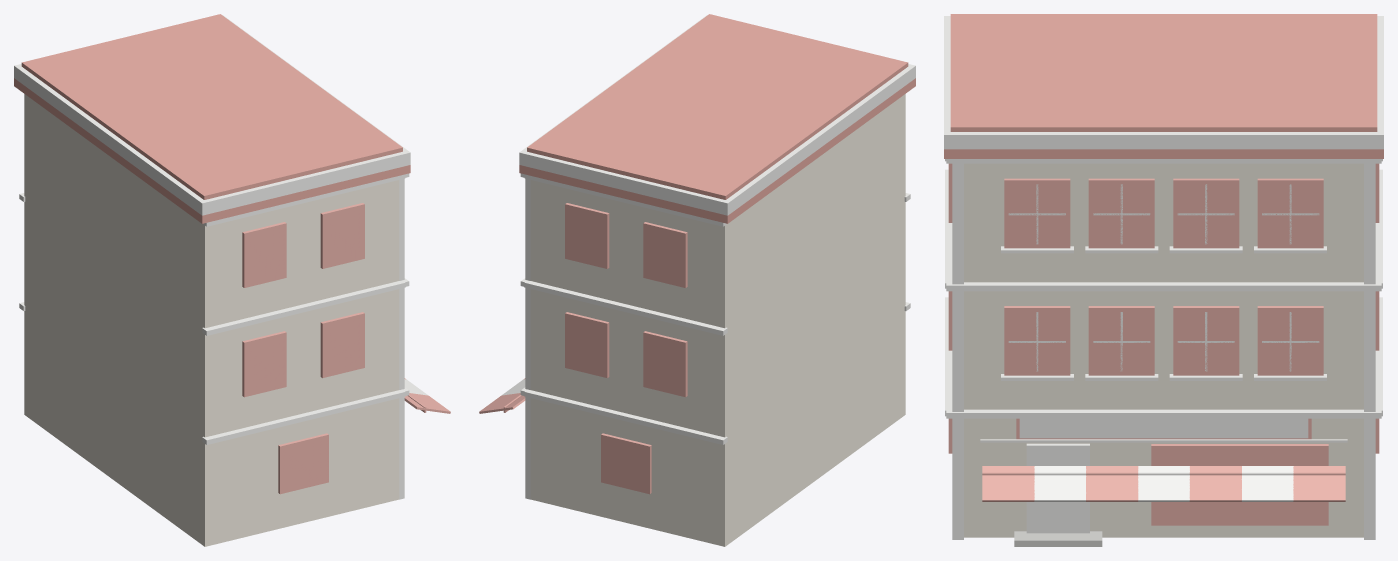
The model's file is Shop_D.fbx.
3 renders of one model, left to right at view 1: azimuth 30°, elevation 25°; view 2: azimuth 150°, elevation 25°; view 3: azimuth 270°, elevation 25°, orthographic. The views are drawn at different scales.
Visible parts, largest first — view 1: Shop_D; view 2: Shop_D; view 3: Shop_D.
Part boxes in pixels (x1,y1,x2,y2): Shop_D: (14,14,450,546); Shop_D: (479,14,915,546); Shop_D: (944,14,1383,546).
Bounding box in the file's own units: 8.13 × 10.38 × 10.
